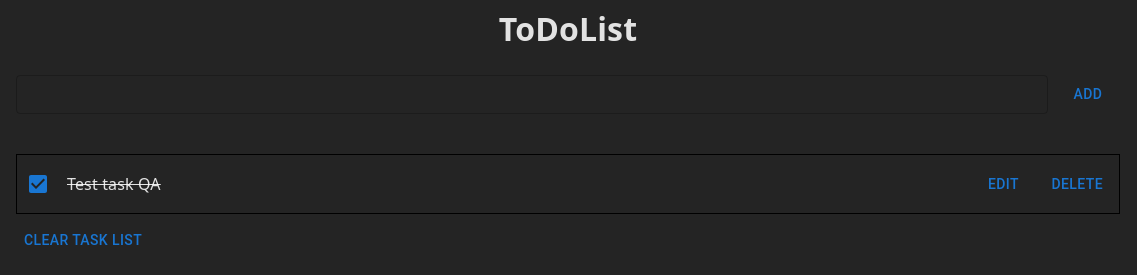
TodoPage › clear list
Step 1. Click the button "Clear task list" → point(83, 240), box [16,222,150,258]
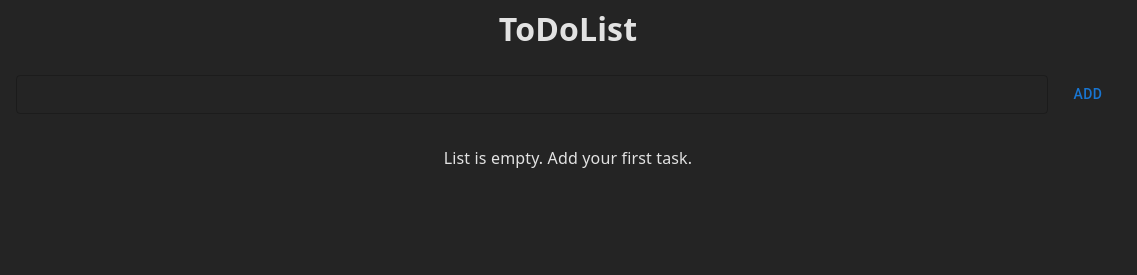
Now the text "List is empty. Add your first task." is shown, box [444,147,692,169]
